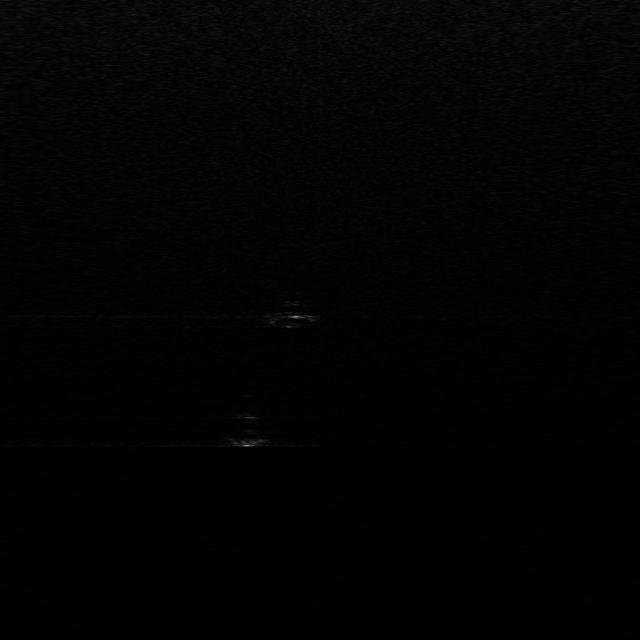ball: (218, 408, 276, 446)
tyre: (260, 303, 322, 330)
